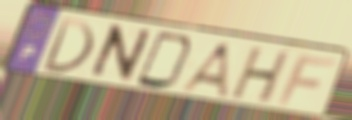A: (176, 40, 234, 100)
D: (133, 29, 197, 92), (39, 16, 96, 77)
F: (275, 54, 340, 108)
H: (227, 46, 294, 106)
N: (84, 23, 156, 85)
